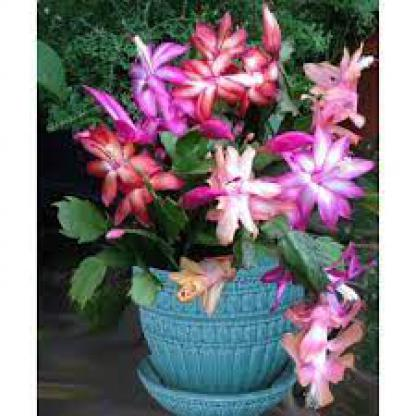Aglonema: (12, 41, 413, 409)
